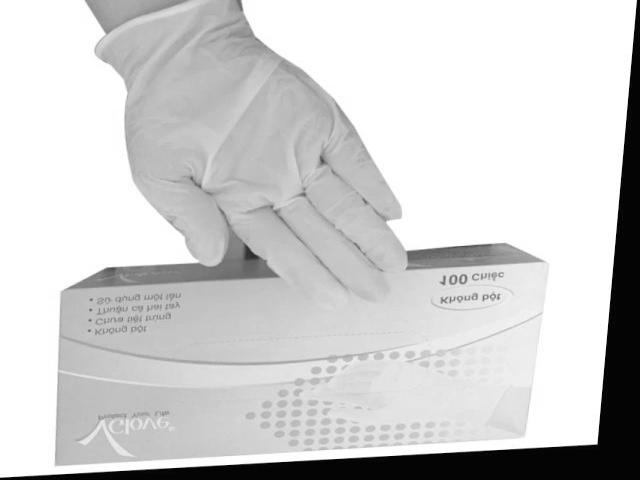gloved: (102, 56, 410, 308), (302, 359, 463, 427)
